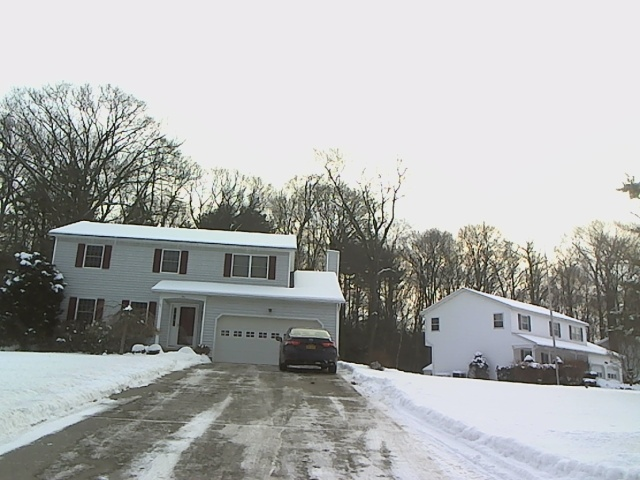Ploughed: (60, 367, 342, 467)
